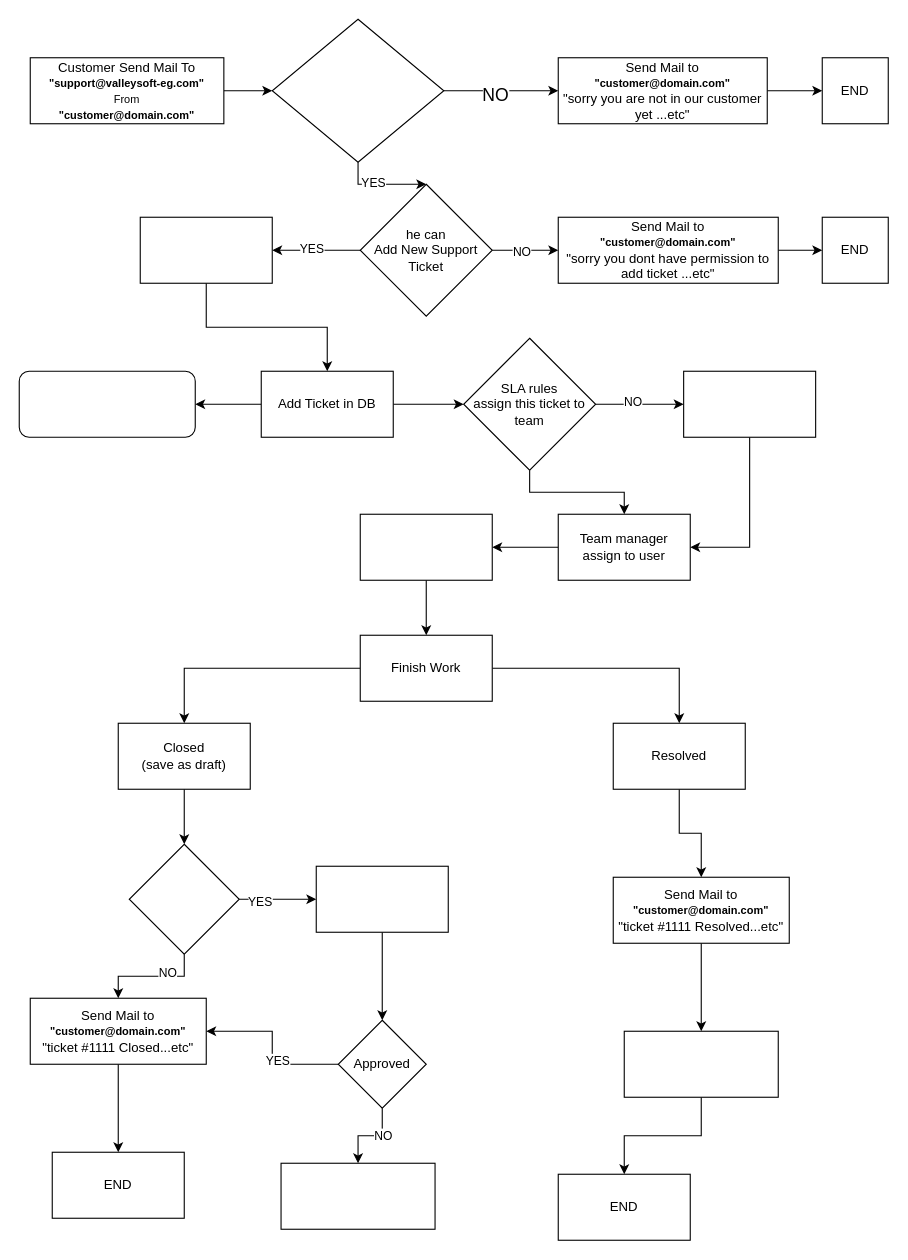
Some shapes in this 908 by 1260 pixel diagram are drawn without their labels. The box of each missing label's shape, as (x1, y1, x2, y2) in pixels:
"customer@domain.com" Add rate to this ticket: (623, 1030, 778, 1097)
Apply SLA rule For this ticket: (139, 216, 272, 283)
Check If This mail in our customer users: (271, 18, 444, 162)
has next level: (128, 843, 239, 954)
L1 Support assign this ticket to team manual: (683, 370, 816, 437)
Send Mail to "customer@domain.com" "ticket #1111 Added...etc": (18, 370, 195, 437)
Send Mail To Next Levet To Approv This Status: (315, 865, 448, 932)
Send mail to user "reject closed req...etc": (280, 1162, 435, 1229)
Work On Ticket: (359, 513, 492, 580)
